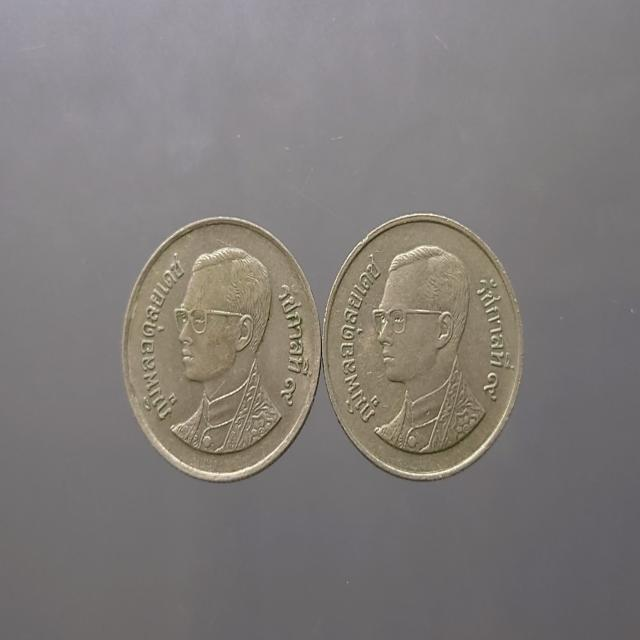1 Bath: (115, 207, 326, 496), (327, 207, 530, 497)
